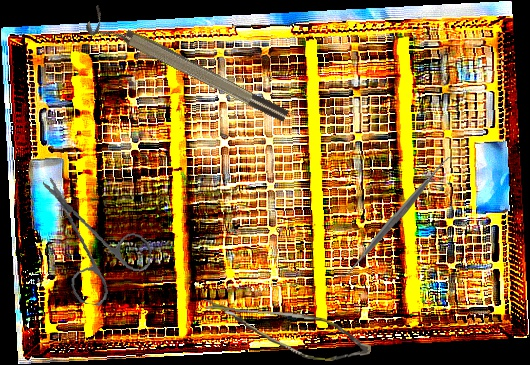Fixation Ring: (83, 4, 291, 135)
Iris Scissors: (25, 176, 161, 313)
Micro Scissor: (198, 298, 374, 365)
Spatula Surgical: (337, 155, 455, 280)
